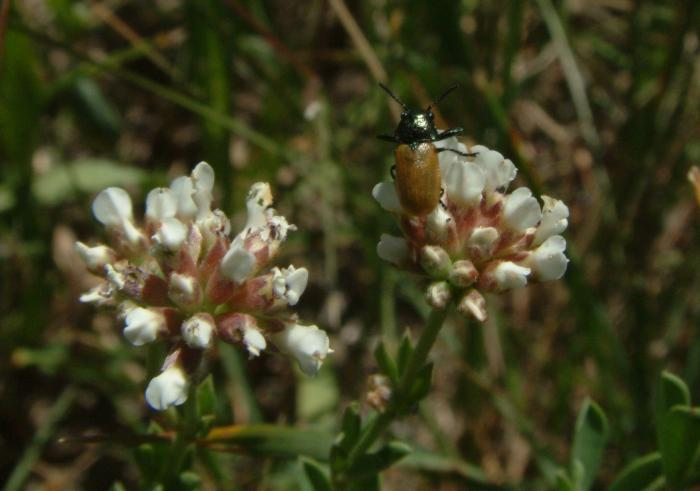Labidostomis_longimana: (369, 79, 481, 221)
